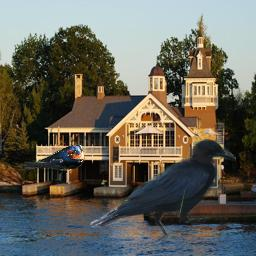Crow: (90, 138, 236, 242)
Swallow: (17, 144, 85, 171)
